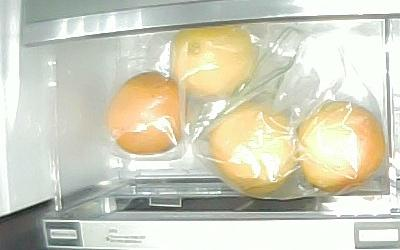grapefruit_vinyl: (208, 101, 299, 193), (297, 101, 385, 193), (108, 72, 191, 155), (171, 25, 256, 96)
